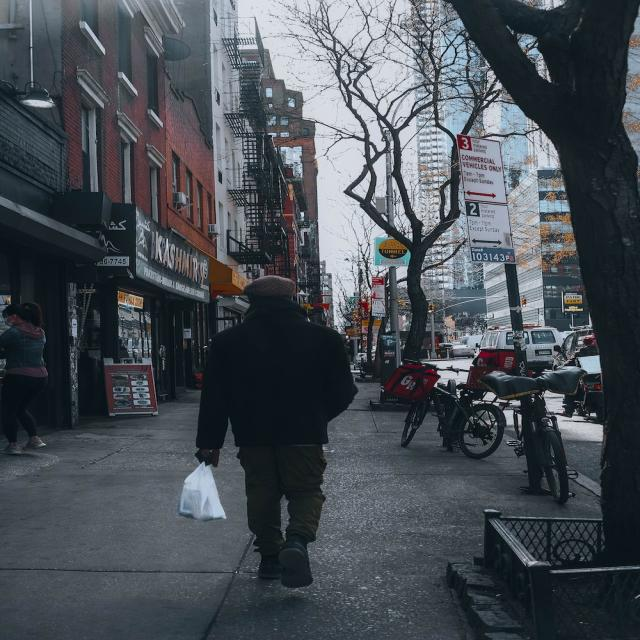person: (197, 276, 349, 591)
